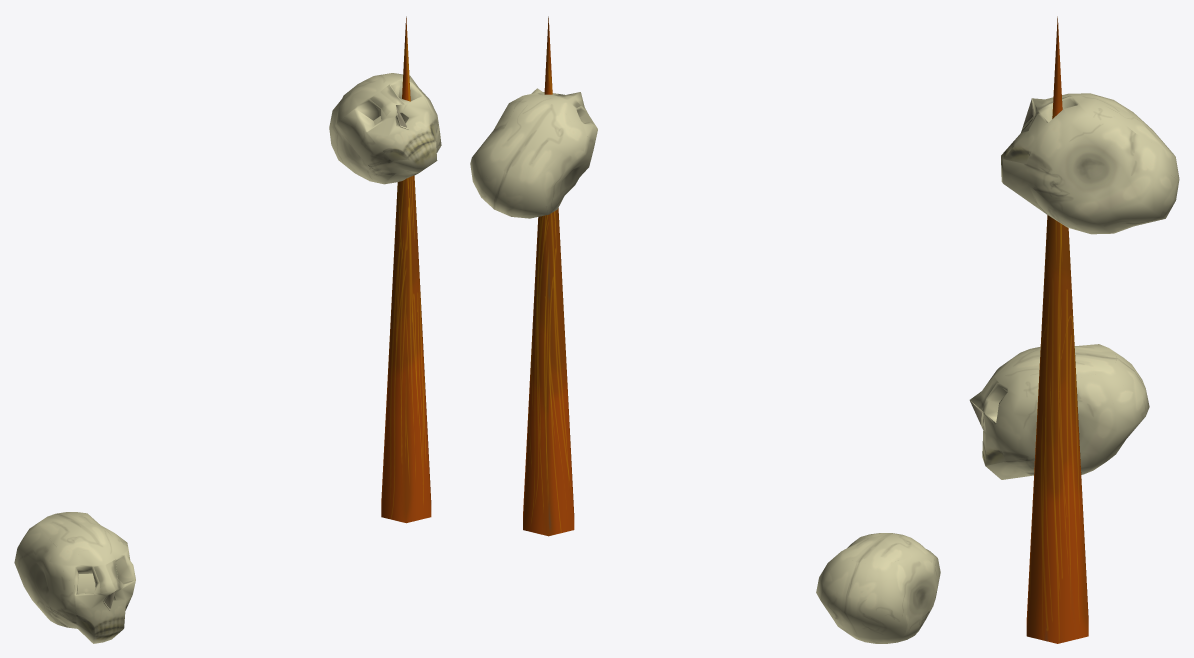
File: skull_and_skull_on_the_stick_props_.fbx
3 renders of one model, left to right at view 1: azimuth 30°, elevation 25°; view 2: azimuth 150°, elevation 25°; view 3: azimuth 270°, elevation 25°, orthographic. The views are drawn at different scales.
Visible parts, largest first — view 1: Cone_1, Sphere_1, Sphere_2; view 2: Cone_1, Sphere_2, Sphere_1; view 3: Cone_1, Sphere_2, Sphere_1.
Part boxes in pixels (x1,y1,x2,y2): Cone_1: (381,16,431,523); Sphere_1: (14,512,135,643); Sphere_2: (329,73,441,184); Cone_1: (523,16,574,536); Sphere_2: (470,88,597,218); Sphere_1: (816,533,940,643); Cone_1: (1026,16,1088,643); Sphere_2: (1001,93,1179,234); Sphere_1: (969,344,1149,479).
Size of the model in its own units: 713 by 883 by 256.
